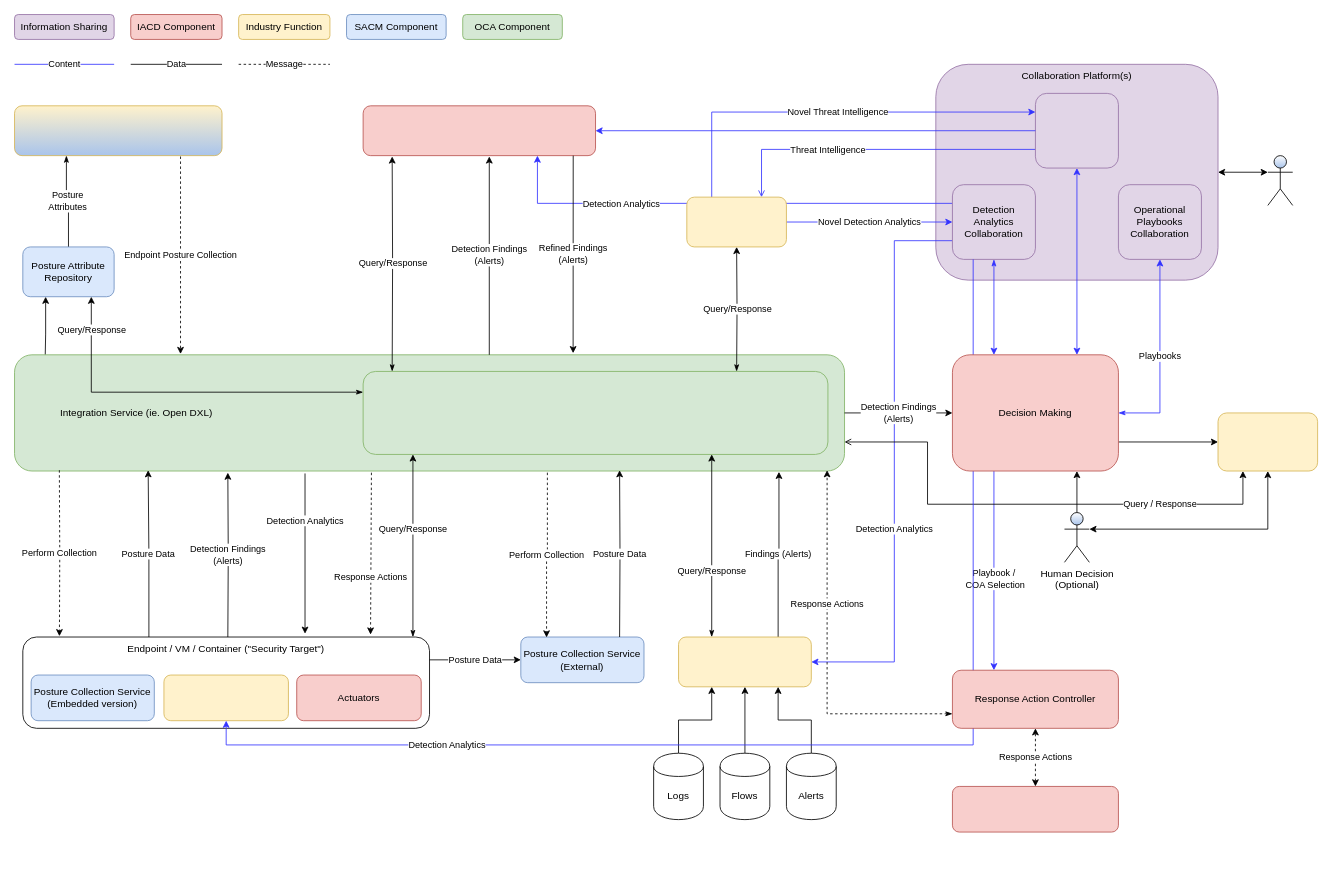
Some shapes in this 1332 by 884 pixel diagram are drawn without their labels. The shapes that lost their labels are listed below. From the top down, each one's centre as x and y in pixels, then its label:
At pixel 118 130: "VA (SACM Orchestrator)".
At pixel 479 130: "Sense-Making Analytics Framework".
At pixel 1076 130: "Threat Intelligence Collaboration".
At pixel 1280 180: "Third Parties".
At pixel 736 221: "Threat Hunting".
At pixel 595 412: "Security Data Fabric (ie. STIX Shifter Module)".
At pixel 1267 441: "Reporting, Investigation, Dashboarding, Management".
At pixel 744 661: "Telemetry Ingestion / Sense-Making (SIEM)".
At pixel 225 697: "EDR".
At pixel 1035 809: "Other Actuators".
